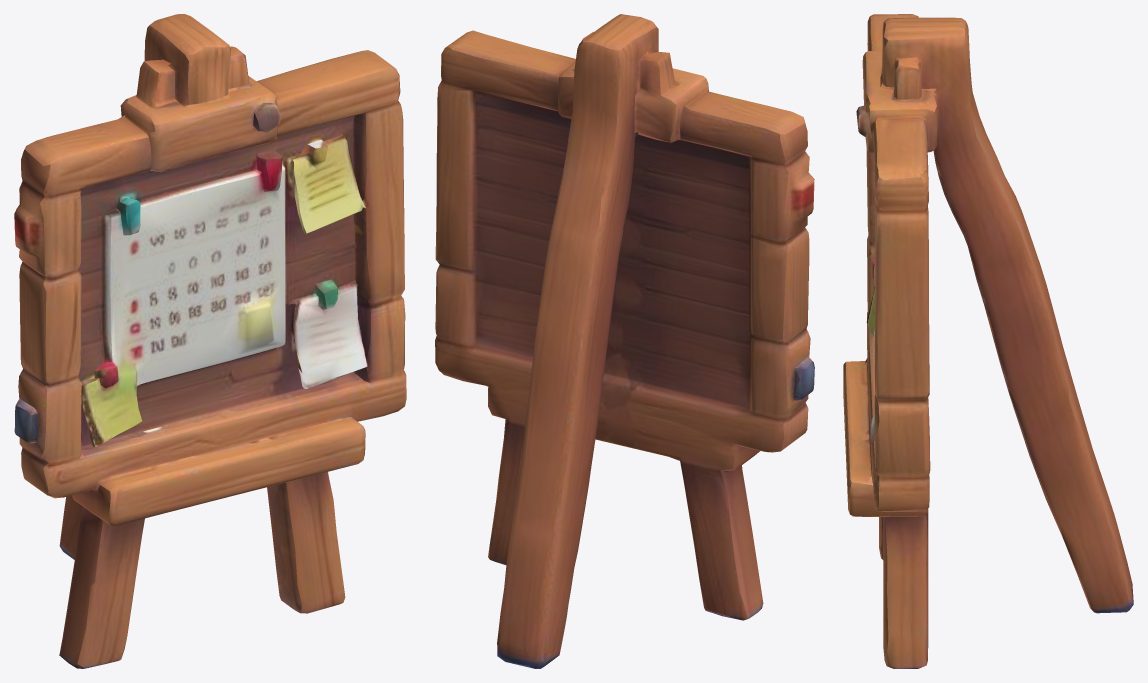
Rendered from calendar_board.glb.
The picture shows the model from 3 angles, left to right: view 1: azimuth 30°, elevation 25°; view 2: azimuth 150°, elevation 25°; view 3: azimuth 270°, elevation 25°; orthographic projection. The views are drawn at different scales.
Visible parts, largest first — view 1: calendar_board_s41; view 2: calendar_board_s41; view 3: calendar_board_s41.
Boxes of the visible parts, bbox=[...] form: calendar_board_s41: bbox=[14, 14, 406, 668]; calendar_board_s41: bbox=[435, 14, 814, 668]; calendar_board_s41: bbox=[843, 14, 1133, 668].
Bounding box in the file's own units: 0.6685 × 1 × 0.4529.
Materials: 1 (1 with a texture image).
